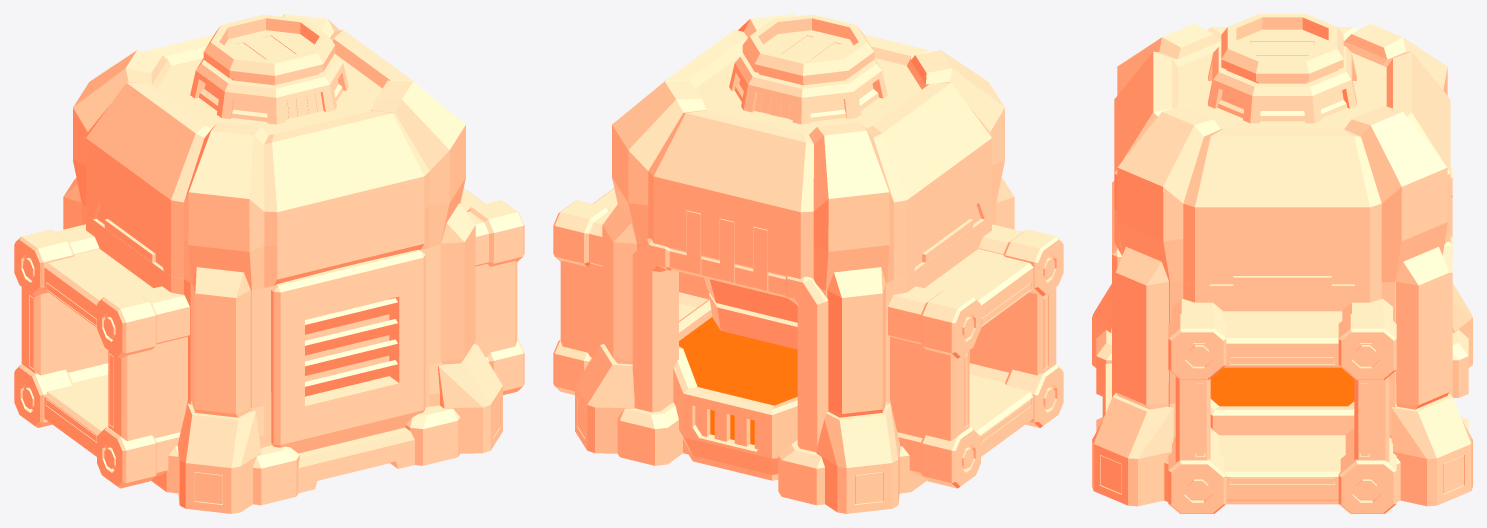
File: smelter.glb
3 renders of one model, left to right at view 1: azimuth 30°, elevation 25°; view 2: azimuth 150°, elevation 25°; view 3: azimuth 270°, elevation 25°, orthographic. The views are drawn at different scales.
Visible parts, largest first — view 1: Body, Base, Port, Head, Port.001, Light; view 2: Body, Port, Base, Head, Pot, Port.001, Molten, Light, Melter; view 3: Body, Port.001, Base, Head, Light, Molten, Pot.
Boxes of the visible parts, x1,y1,x2,y2 form: Body: [63, 14, 475, 448]; Base: [151, 249, 502, 513]; Port: [14, 214, 189, 488]; Head: [156, 14, 382, 134]; Port.001: [460, 188, 524, 394]; Light: [30, 36, 500, 504]; Body: [602, 14, 1014, 417]; Port: [888, 214, 1063, 488]; Base: [575, 238, 926, 513]; Head: [695, 14, 921, 134]; Pot: [673, 299, 797, 480]; Port.001: [553, 188, 709, 394]; Molten: [679, 317, 797, 444]; Light: [577, 36, 1047, 504]; Melter: [704, 278, 797, 349]; Body: [1114, 23, 1450, 438]; Port.001: [1168, 282, 1396, 513]; Base: [1092, 167, 1472, 506]; Head: [1178, 14, 1386, 129]; Light: [1100, 42, 1464, 493]; Molten: [1210, 367, 1354, 406]; Pot: [1210, 399, 1354, 435].
Bounding box in the file's own units: 1.01 × 0.903 × 0.8031.
